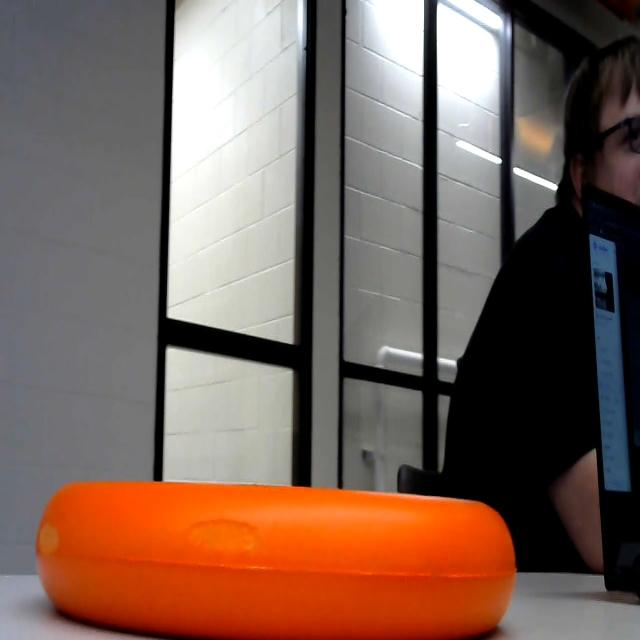note: (33, 471, 520, 640)
